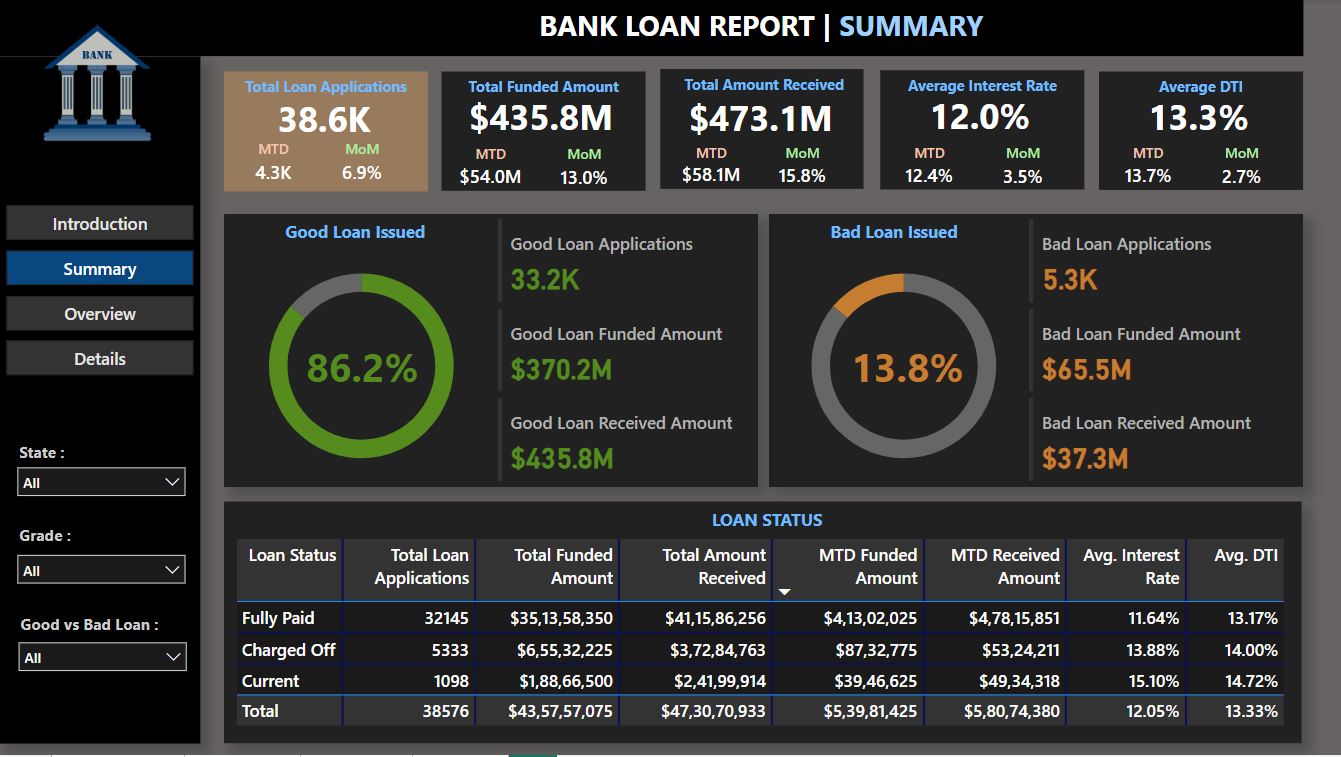

This screenshot's page, from the dashboard's own definition file:
{"tool":"powerbi","page":{"name":"Summary","canvas":[1280,720],"ordinal":1},"visuals":[{"type":"shape","box":[629.2,66.4,193.8,114.2],"z":0,"group":"g3"},{"type":"shape","box":[839.7,67.5,194.5,114],"z":0,"group":"g4"},{"type":"shape","box":[214.3,68.6,194.3,114.3],"z":0,"group":"g1"},{"type":"shape","box":[421.4,68.6,194.5,114],"z":0,"group":"g2"},{"type":"shape","box":[1047.1,68.6,194.5,113.1],"z":0,"group":"g5"},{"type":"shape","box":[214.3,204.3,508.6,260],"z":0},{"type":"card","fields":{"Values":["table_measures.avg_interest_rate"]},"box":[851.5,82.1,165.9,58.4],"z":1000,"group":"g4"},{"type":"card","fields":{"Values":["table_measures.avg_DTI"]},"box":[1058.9,83.1,165.9,57.9],"z":1000,"group":"g5"},{"type":"card","fields":{"Values":["table_measures.total_loan_appl"]},"box":[247.2,83.2,124.3,61.3],"z":1000,"group":"g1"},{"type":"card","fields":{"Values":["table_measures.total_funded_amt"]},"box":[433.2,83.2,165.9,58.4],"z":1000,"group":"g2"},{"type":"card","fields":{"Values":["table_measures.total_received_amt"]},"box":[643.2,85.3,163.1,55.8],"z":1000,"group":"g3"},{"type":"donutChart","fields":{"Category":["financial_loan.Good vs Band Loan"],"Y":["table_measures.total_loan_appl"]},"box":[220,234.3,250,230],"z":1000},{"type":"shape","box":[0,0,1242.3,54.5],"z":2000},{"type":"textbox","box":[632.2,67,191,41.6],"z":2000,"group":"g3"},{"type":"textbox","box":[839.7,67.5,194.5,38.9],"z":2000,"group":"g4"},{"type":"textbox","box":[214.3,68.6,194.3,39],"z":2000,"group":"g1"},{"type":"textbox","box":[421.4,68.6,194.5,38.9],"z":2000,"group":"g2"},{"type":"textbox","box":[1047.1,68.6,194.5,38.6],"z":2000,"group":"g5"},{"type":"shape","box":[0,54.7,191.9,654.7],"z":3000},{"type":"card","title":"MTD","fields":{"Values":["table_measures.MTD_loan_appl"]},"box":[235.7,132.7,51.4,50.2],"z":3000,"group":"g1"},{"type":"card","title":"MTD","fields":{"Values":["table_measures.MTD_interest_rate"]},"box":[851.5,136.3,70.1,48.6],"z":3000,"group":"g4"},{"type":"card","title":"MTD","fields":{"Values":["table_measures.MTD_avg_DTI"]},"box":[1058.9,136.9,70.1,48.3],"z":3000,"group":"g5"},{"type":"card","title":"MTD","fields":{"Values":["table_measures.MTD_received_amt"]},"box":[643.2,137.1,68.9,46.5],"z":3000,"group":"g3"},{"type":"card","title":"MTD","fields":{"Values":["table_measures.MTD_funded_amt"]},"box":[433.2,137.4,70.1,48.6],"z":3000,"group":"g2"},{"type":"card","title":"MoM","fields":{"Values":["table_measures.MOM_loan_appl"]},"box":[320,132.7,51.4,50.2],"z":4000,"group":"g1"},{"type":"card","title":"MoM","fields":{"Values":["table_measures.MOM_interest_rate"]},"box":[946.6,136.1,57.8,49.7],"z":4000,"group":"g4"},{"type":"card","title":"MoM","fields":{"Values":["table_measures.MOM_avg_DTI"]},"box":[1154,136.7,57.8,49.3],"z":4000,"group":"g5"},{"type":"card","title":"MoM","fields":{"Values":["table_measures.MOM_received_amt"]},"box":[736.7,136.9,56.8,47.5],"z":4000,"group":"g3"},{"type":"card","title":"MoM","fields":{"Values":["table_measures.MOM_funded_amt"]},"box":[528.3,137.2,57.8,49.7],"z":4000,"group":"g2"},{"type":"textbox","box":[13.8,417,119.7,38.5],"z":4000},{"type":"textbox","box":[235.7,204.3,207.1,34.3],"z":5000},{"type":"card","fields":{"Values":["table_measures.good_loan_per"]},"box":[287.1,321.4,118.6,57.1],"z":6000},{"type":"textbox","box":[509.2,1.4,447.3,49.5],"z":7000},{"type":"group","id":"g1","title":"Group 1","box":[214.3,68.6,194.3,114.3],"z":8000},{"type":"group","id":"g2","title":"Group 1","box":[421.4,68.6,194.3,118],"z":9000},{"type":"group","id":"g3","title":"Group 1","box":[629.2,66.4,194,118],"z":10000},{"type":"group","id":"g4","title":"Group 1","box":[839.7,67.5,194.5,118.2],"z":11000},{"type":"group","id":"g5","title":"Group 1","box":[1047.1,68.6,194.3,117.1],"z":12000},{"type":"shape","box":[732.9,204.3,508.6,260],"z":13000},{"type":"cardVisual","fields":{"Data":["table_measures.good_loan_appl","table_measures.good_loan_funded_amt","table_measures.good_loan_received_amt"]},"box":[470,204.3,252.9,260],"z":14000},{"type":"donutChart","fields":{"Category":["financial_loan.Good vs Band Loan"],"Y":["table_measures.total_loan_appl"]},"box":[737.1,234.3,250,230],"z":15000},{"type":"card","fields":{"Values":["table_measures.bad_loan_per"]},"box":[805.7,321.4,118.6,57.1],"z":16000},{"type":"textbox","box":[748.6,204.3,207.1,34.3],"z":17000},{"type":"cardVisual","fields":{"Data":["table_measures.bad_loan_appl","table_measures.bad_loan_funded_amt","table_measures.bad_loan_received_amt"]},"box":[975.7,204.3,252.9,260],"z":18000},{"type":"shape","box":[214,479.1,1026.7,230.2],"z":19000},{"type":"tableEx","fields":{"Values":["financial_loan.loan_status","table_measures.total_loan_appl","table_measures.total_funded_amt","table_measures.total_received_amt","table_measures.MTD_funded_amt","table_measures.MTD_received_amt","table_measures.avg_interest_rate","table_measures.avg_DTI"]},"box":[220.4,509.8,1008.5,200.4],"z":20000},{"type":"textbox","box":[646.8,479.8,170.3,34.5],"z":21000},{"type":"slicer","fields":{"Values":["financial_loan.address_state"]},"box":[6.9,436.3,180.3,50.9],"z":22000},{"type":"slicer","fields":{"Values":["financial_loan.grade"]},"box":[6.9,518.9,180.3,50.9],"z":23000},{"type":"textbox","box":[13.8,495.5,119.7,38.5],"z":24000},{"type":"pageNavigator","box":[6.9,196.8,178.9,163.8],"z":25000},{"type":"image","box":[0,1.4,187.2,156.9],"z":26000},{"type":"slicer","fields":{"Values":["financial_loan.Good vs Band Loan"]},"box":[8.3,602.8,180.3,50.9],"z":27000},{"type":"textbox","box":[15.1,579.4,163.8,38.5],"z":28000}]}

Visuals, with their boxes in screenshot pixels (x1, y1, x2, y2), scaled from the page's 1280x720 canvas onto the 1341x757 screenshot:
shape: BBox(659, 70, 862, 190)
shape: BBox(880, 71, 1083, 191)
shape: BBox(225, 72, 428, 192)
shape: BBox(441, 72, 645, 192)
shape: BBox(1097, 72, 1301, 191)
shape: BBox(225, 215, 757, 488)
card - table_measures.avg_interest_rate: BBox(892, 86, 1066, 148)
card - table_measures.avg_DTI: BBox(1109, 87, 1283, 148)
card - table_measures.total_loan_appl: BBox(259, 87, 389, 152)
card - table_measures.total_funded_amt: BBox(454, 87, 628, 149)
card - table_measures.total_received_amt: BBox(674, 90, 845, 148)
donutChart - financial_loan.Good vs Band Loan x table_measures.total_loan_appl: BBox(230, 246, 492, 488)
shape: BBox(0, 0, 1302, 57)
textbox: BBox(662, 70, 862, 114)
textbox: BBox(880, 71, 1083, 112)
textbox: BBox(225, 72, 428, 113)
textbox: BBox(441, 72, 645, 113)
textbox: BBox(1097, 72, 1301, 113)
shape: BBox(0, 58, 201, 746)
"MTD" card: BBox(247, 140, 301, 192)
"MTD" card: BBox(892, 143, 966, 194)
"MTD" card: BBox(1109, 144, 1183, 195)
"MTD" card: BBox(674, 144, 746, 193)
"MTD" card: BBox(454, 144, 527, 196)
"MoM" card: BBox(335, 140, 389, 192)
"MoM" card: BBox(992, 143, 1052, 195)
"MoM" card: BBox(1209, 144, 1270, 196)
"MoM" card: BBox(772, 144, 831, 194)
"MoM" card: BBox(553, 144, 614, 197)
textbox: BBox(14, 438, 140, 479)
textbox: BBox(247, 215, 464, 251)
card - table_measures.good_loan_per: BBox(301, 338, 425, 398)
textbox: BBox(533, 1, 1002, 54)
"Group 1" group: BBox(225, 72, 428, 192)
"Group 1" group: BBox(441, 72, 645, 196)
"Group 1" group: BBox(659, 70, 862, 194)
"Group 1" group: BBox(880, 71, 1083, 195)
"Group 1" group: BBox(1097, 72, 1301, 195)
shape: BBox(768, 215, 1301, 488)
cardVisual - table_measures.good_loan_appl x table_measures.good_loan_funded_amt: BBox(492, 215, 757, 488)
donutChart - financial_loan.Good vs Band Loan x table_measures.total_loan_appl: BBox(772, 246, 1034, 488)
card - table_measures.bad_loan_per: BBox(844, 338, 968, 398)
textbox: BBox(784, 215, 1001, 251)
cardVisual - table_measures.bad_loan_appl x table_measures.bad_loan_funded_amt: BBox(1022, 215, 1287, 488)
shape: BBox(224, 504, 1300, 746)
tableEx - financial_loan.loan_status x table_measures.total_loan_appl: BBox(231, 536, 1287, 747)
textbox: BBox(678, 504, 856, 541)
slicer - financial_loan.address_state: BBox(7, 459, 196, 512)
slicer - financial_loan.grade: BBox(7, 546, 196, 599)
textbox: BBox(14, 521, 140, 561)
pageNavigator: BBox(7, 207, 195, 379)
image: BBox(0, 1, 196, 166)
slicer - financial_loan.Good vs Band Loan: BBox(9, 634, 198, 687)
textbox: BBox(16, 609, 187, 650)
